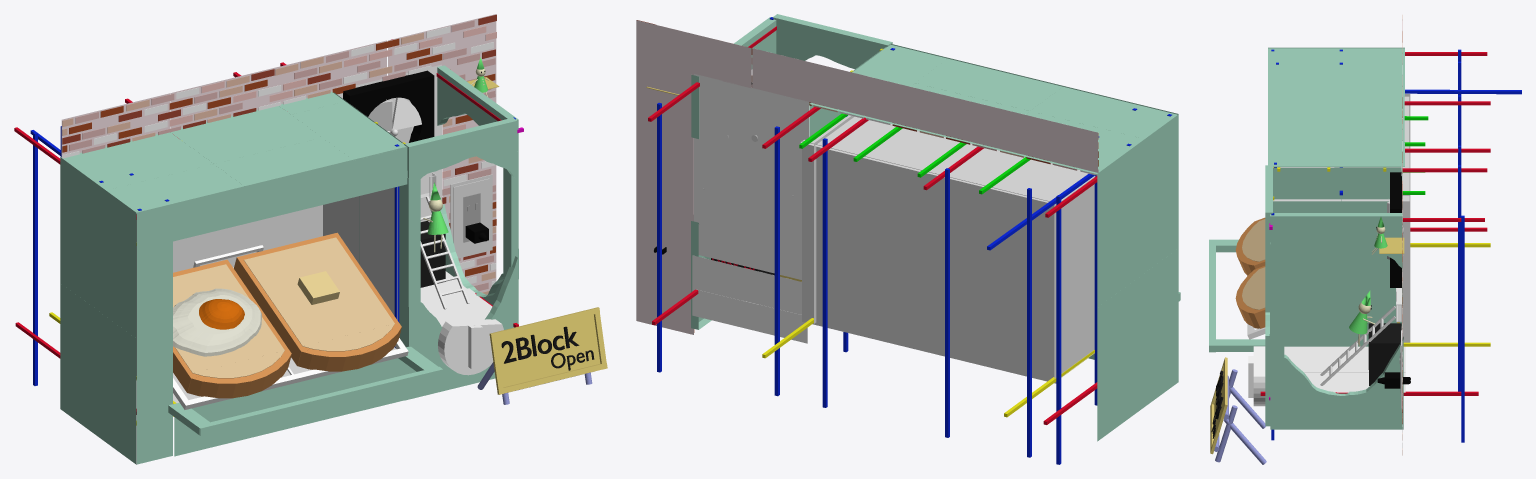
3 renders of one model, left to right at view 1: azimuth 30°, elevation 25°; view 2: azimuth 150°, elevation 25°; view 3: azimuth 270°, elevation 25°, orthographic. The views are drawn at different scales.
Visible parts, largest first — view 1: 立方体.085, 立方体.016, 立方体.014, 平面.001, 立方体.004, 立方体.005, 立方体.001, 立方体.119, 円柱.024, 平面.002, 円.008, 立方体.042 (+35 smaller); view 2: 立方体.009, 立方体.066, 立方体.016, 立方体.014, 立方体.073, 立方体.075, 立方体.039, 立方体.082, 立方体.074, 立方体.076, 立方体.083, 立方体.078 (+22 smaller); view 3: 平面.002, 立方体.018, 立方体.025, 立方体.011, 立方体.008, 立方体.007, 立方体.010, 立方体.032, 円柱.024, 平面.001, 立方体.085, 立方体.115 (+28 smaller).
Boxes of the visible parts, x1,y1,x2,y2 form: 立方体.085: (234, 232, 401, 371); 立方体.016: (60, 157, 136, 338); 立方体.014: (60, 283, 136, 464); 平面.001: (404, 117, 517, 385); 立方体.004: (137, 204, 172, 464); 立方体.005: (173, 146, 407, 241); 立方体.001: (174, 358, 415, 456); 立方体.119: (173, 259, 291, 398); 円柱.024: (477, 307, 607, 404); 平面.002: (437, 65, 518, 323); 円.008: (173, 288, 262, 356); 立方体.042: (359, 187, 397, 319); 立方体.009: (802, 141, 929, 352); 立方体.066: (930, 172, 1056, 383); 立方体.016: (1097, 114, 1178, 307); 立方体.014: (1097, 248, 1178, 441); 立方体.073: (692, 255, 807, 343); 立方体.075: (694, 135, 801, 219); 立方体.039: (1054, 177, 1094, 378); 立方体.082: (636, 80, 693, 214); 立方体.074: (694, 194, 801, 279); 立方体.076: (694, 74, 808, 159); 立方体.083: (636, 200, 693, 334); 立方体.078: (867, 76, 982, 144); 平面.002: (1269, 213, 1403, 429); 立方体.018: (1273, 167, 1334, 346); 立方体.025: (1334, 167, 1402, 346); 立方体.011: (1324, 95, 1380, 142); 立方体.008: (1268, 95, 1323, 142); 立方体.007: (1268, 48, 1323, 95); 立方体.010: (1324, 48, 1379, 95); 立方体.032: (1268, 143, 1379, 166); 円柱.024: (1210, 357, 1266, 464); 平面.001: (1265, 165, 1272, 426); 立方体.085: (1235, 266, 1265, 328); 立方体.115: (1368, 323, 1401, 385).
Bounding box in the file's own units: 14.58 × 9.4 × 10.05.
